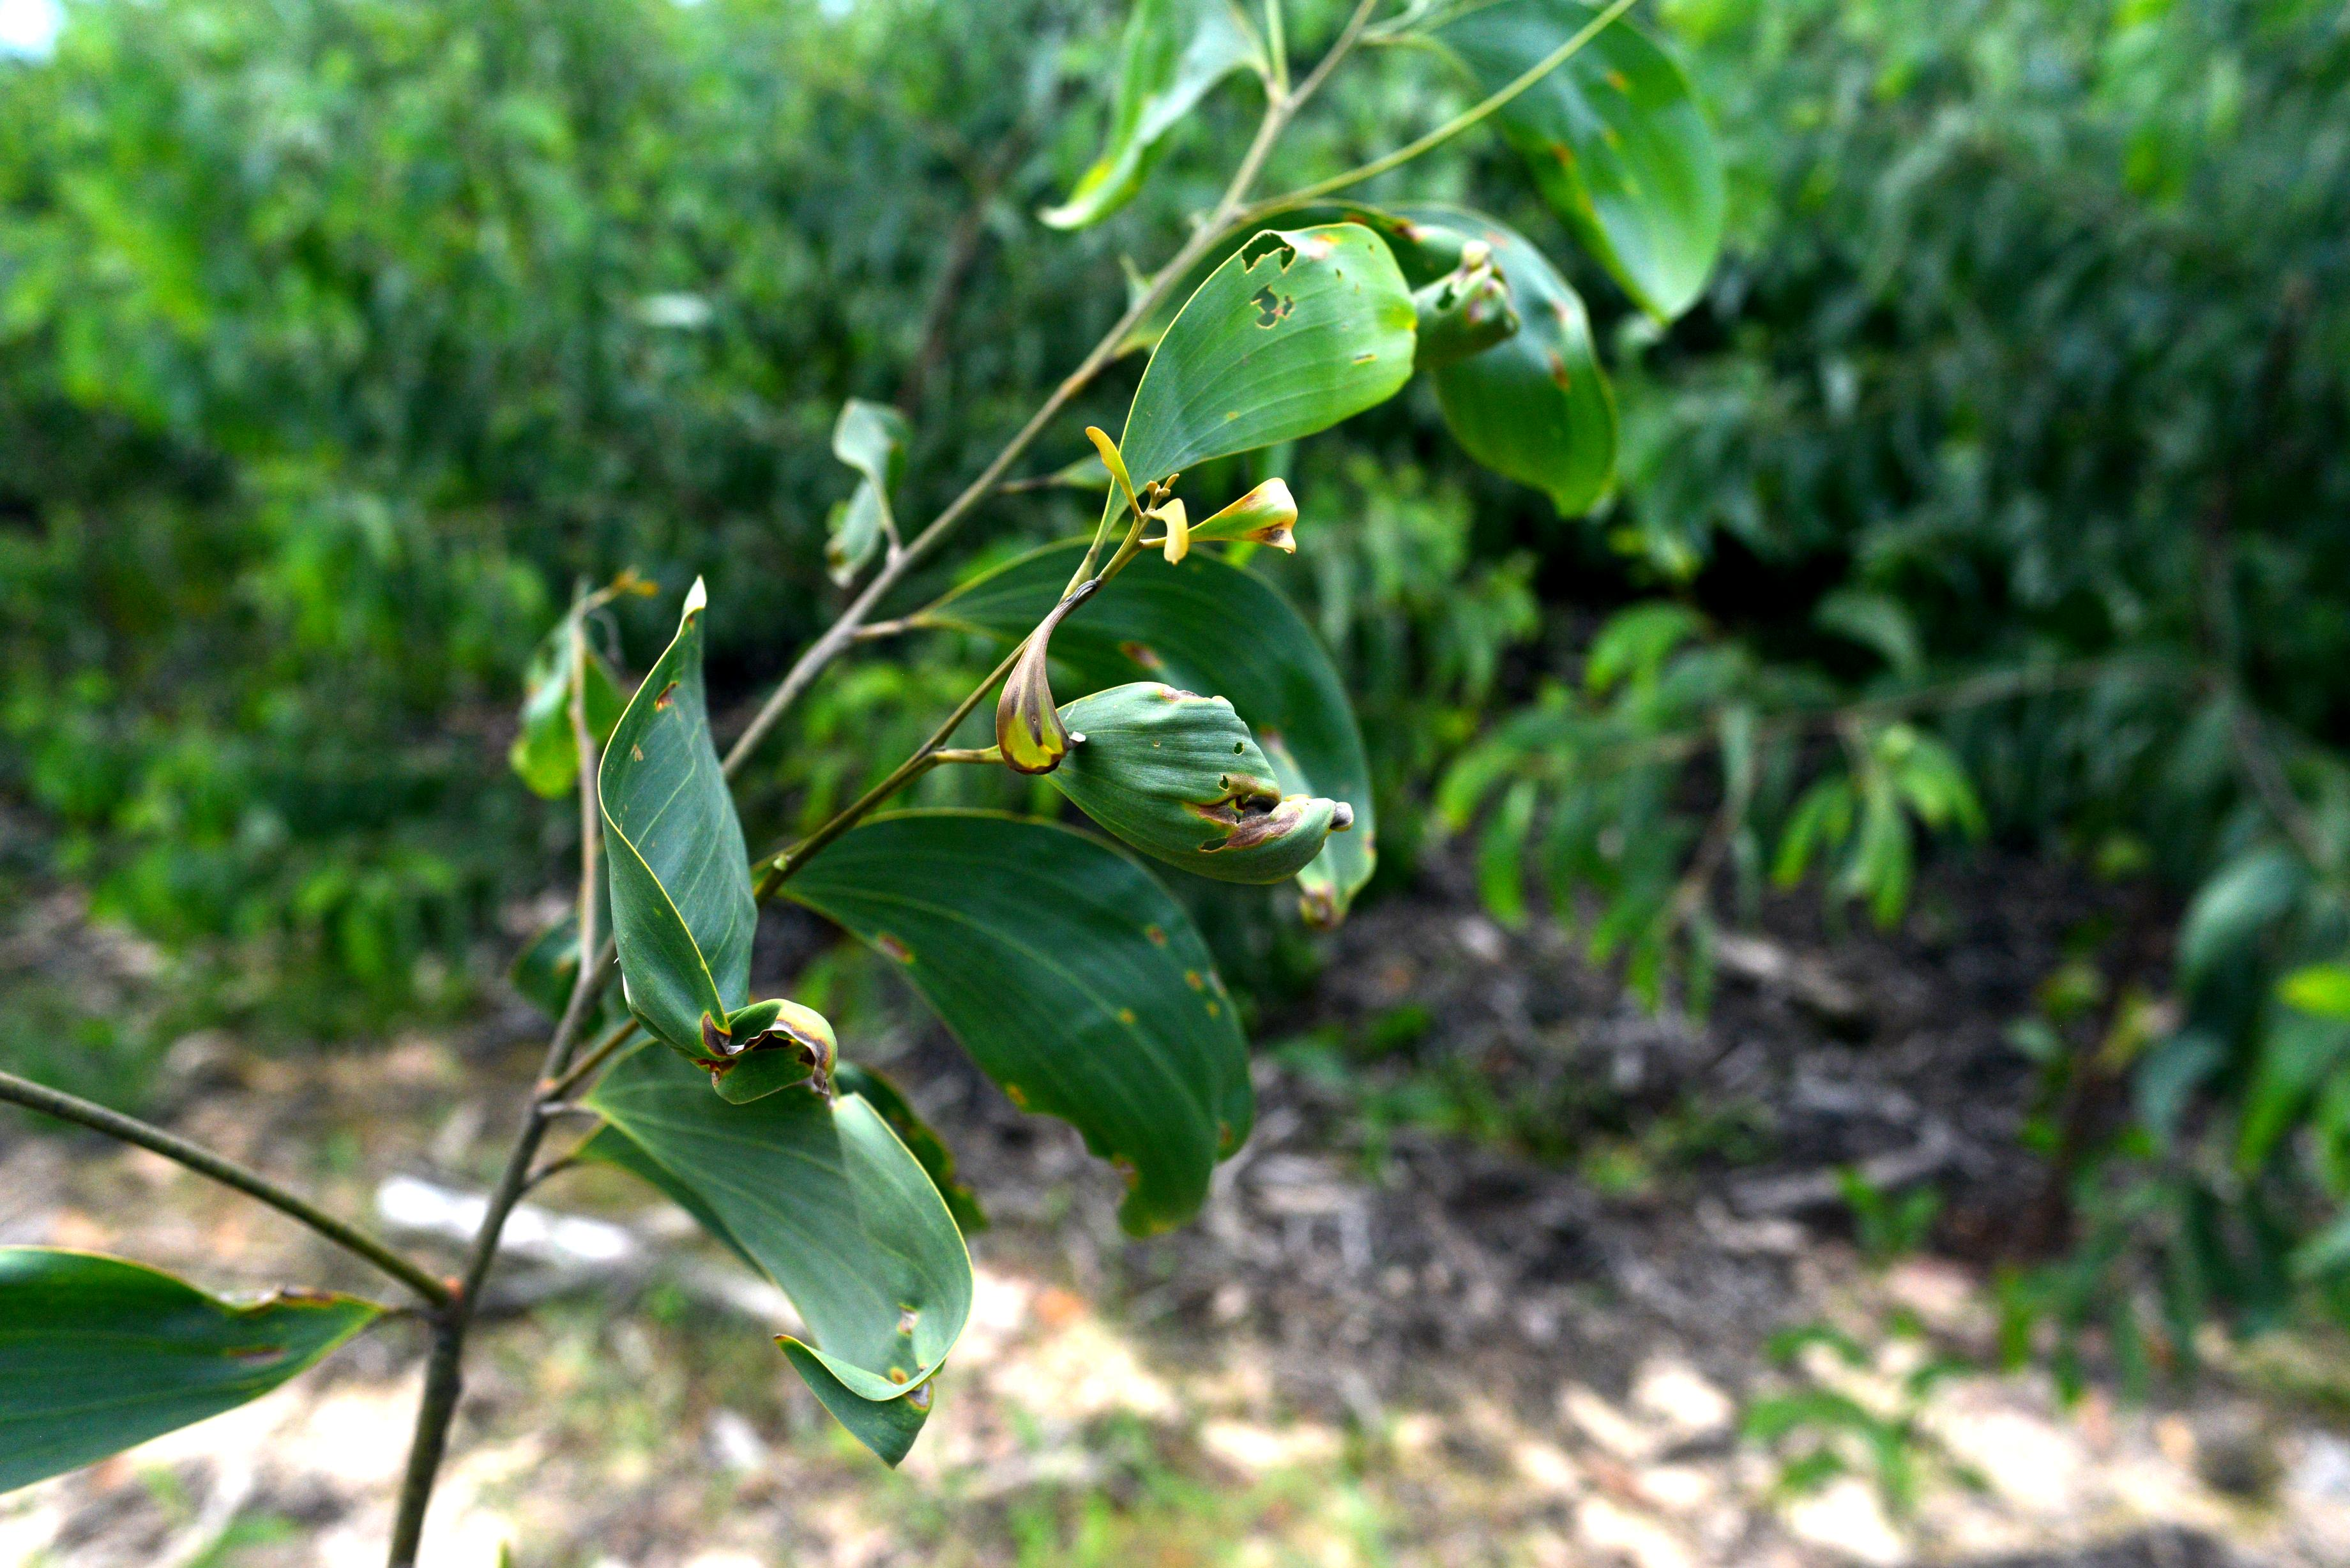Pasalora: (1087, 215, 1514, 579), (602, 1090, 971, 1491), (569, 553, 835, 1095), (996, 896, 1272, 1220), (990, 677, 1375, 891), (1036, 0, 1263, 234), (518, 581, 656, 808), (684, 996, 852, 1108), (824, 397, 919, 577)
